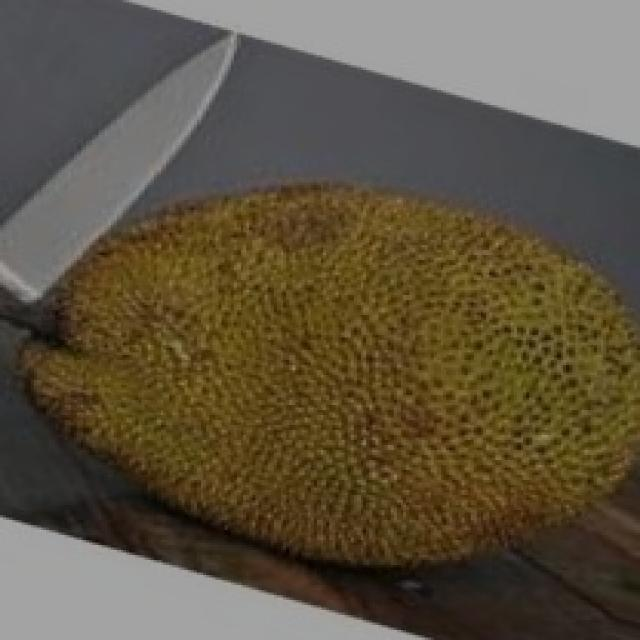Fruit: (3, 148, 406, 628), (243, 125, 640, 463)
